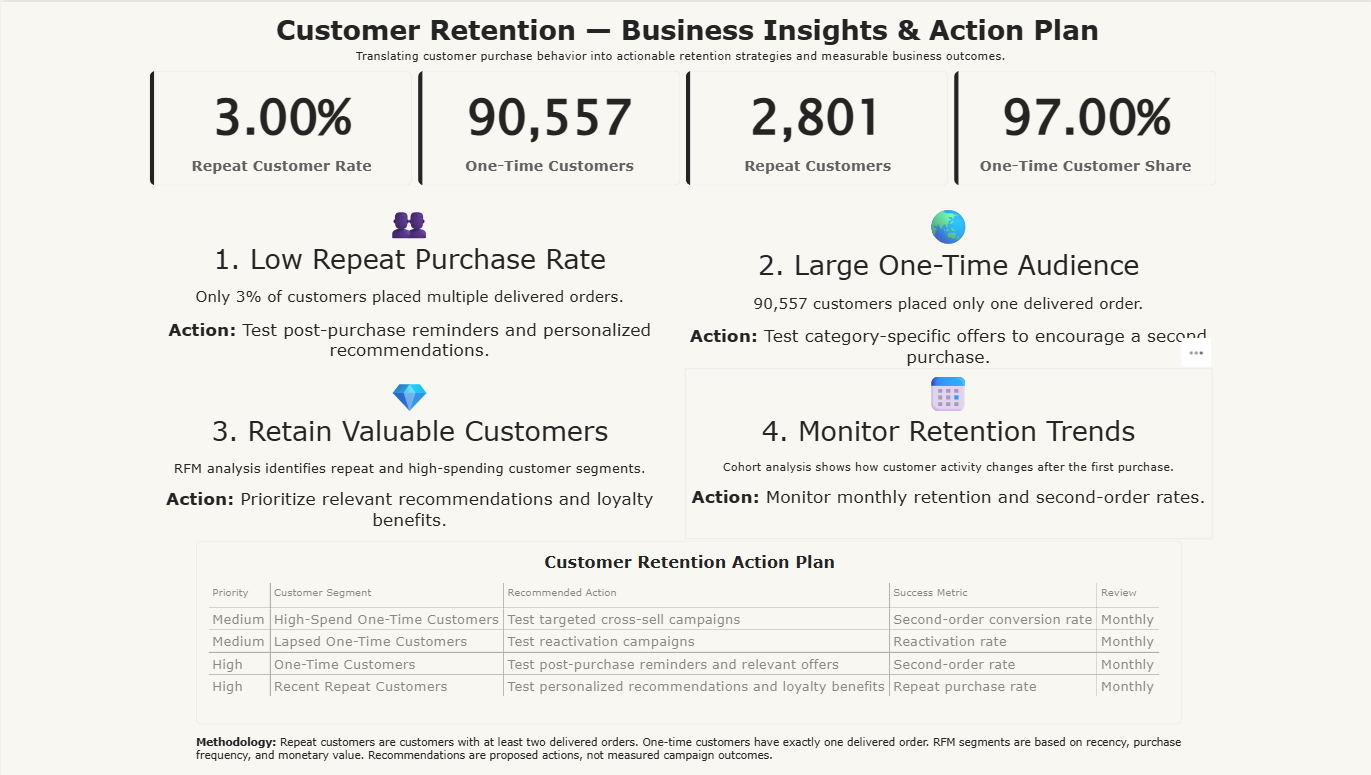

Layout of this report page (visuals, bound fields, positions):
{"tool":"powerbi","page":{"name":"Business Insights","canvas":[1920,1080],"ordinal":3},"visuals":[{"type":"cardVisual","fields":{"Data":["customer_purchase_summary.Repeat Customer Rate","rfm_customer_segments.One-Time Customers","customer_purchase_summary.Repeat Customers","rfm_customer_segments.One-Time Customer Share"]},"box":[208,96,1488,160],"z":0},{"type":"textbox","box":[384,16,1152,48],"z":1000},{"type":"textbox","box":[496,64,912,32],"z":2000},{"type":"textbox","box":[201.8,270.7,736,240],"z":3000},{"type":"textbox","box":[954.6,278.4,736,240],"z":4000},{"type":"textbox","box":[201.8,510.7,736,240],"z":5000},{"type":"textbox","box":[953.8,510.7,736,240],"z":6000},{"type":"tableEx","title":"Customer Retention Action Plan","fields":{"Values":["Retention Action Plan.Priority","Retention Action Plan.Customer Segment","Retention Action Plan.Recommended Action","Retention Action Plan.Success Metric","Retention Action Plan.Review"]},"box":[272,752,1376,256],"z":7000},{"type":"textbox","box":[272,1024,1376,48],"z":8000}]}

Visuals, with their boxes in screenshot pixels (x1, y1, x2, y2), scaled from the page's 1920x1080 canvas onto the 1371x775 screenshot:
cardVisual - customer_purchase_summary.Repeat Customer Rate x rfm_customer_segments.One-Time Customers: bbox(149, 69, 1211, 184)
textbox: bbox(274, 11, 1097, 46)
textbox: bbox(354, 46, 1005, 69)
textbox: bbox(144, 194, 670, 366)
textbox: bbox(682, 200, 1207, 372)
textbox: bbox(144, 366, 670, 539)
textbox: bbox(681, 366, 1207, 539)
"Customer Retention Action Plan" tableEx: bbox(194, 540, 1177, 723)
textbox: bbox(194, 735, 1177, 769)
